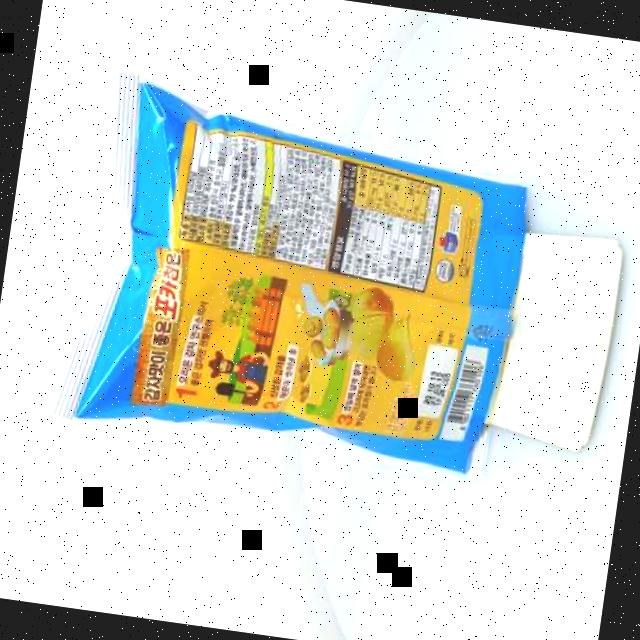snack_bag: (19, 56, 546, 502)
